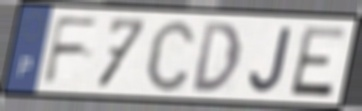7: (95, 15, 148, 90)
C: (143, 17, 198, 94)
D: (191, 19, 243, 94)
E: (287, 25, 349, 100)
F: (40, 15, 102, 87)
J: (247, 25, 296, 96)
